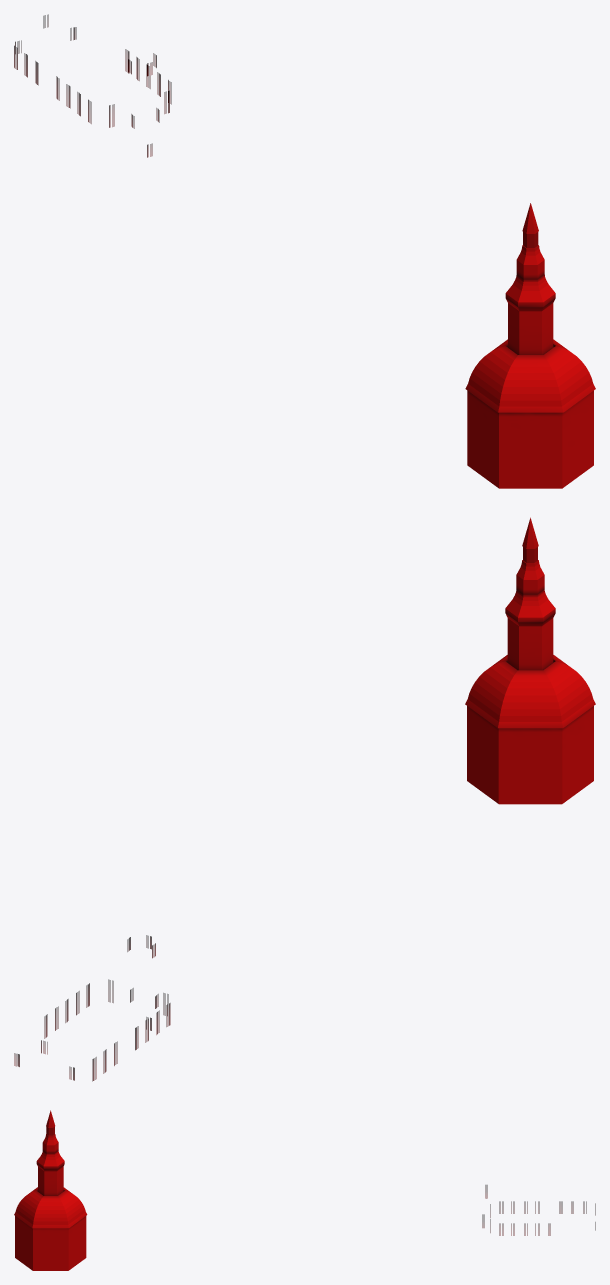
Rendered from WindowBars_export.obj.
3 renders of one model, top to bottom at view 1: azimuth 30°, elevation 25°; view 2: azimuth 150°, elevation 25°; view 3: azimuth 270°, elevation 25°, orthographic. The views are drawn at different scales.
Parts seen in each view (by area): view 1: MainBuildingBase, MainBuildingBigRoof, MainBuildingUpperRoof, MainBuildingLowerTower, WindowBars; view 2: MainBuildingBase, MainBuildingBigRoof, MainBuildingUpperRoof, MainBuildingLowerTower, WindowBars; view 3: MainBuildingBase, MainBuildingBigRoof, MainBuildingUpperRoof, MainBuildingLowerTower, WindowBars.
Part boxes in pixels (box(x1,y1,x2,y2)): MainBuildingBase: box(467, 390, 593, 488); MainBuildingBigRoof: box(465, 339, 595, 412); MainBuildingUpperRoof: box(505, 203, 555, 311); MainBuildingLowerTower: box(507, 303, 553, 354); WindowBars: box(14, 14, 171, 157); MainBuildingBase: box(467, 706, 593, 804); MainBuildingBigRoof: box(465, 655, 595, 728); MainBuildingUpperRoof: box(505, 517, 555, 626); MainBuildingLowerTower: box(507, 618, 553, 670); WindowBars: box(14, 935, 170, 1081); MainBuildingBase: box(15, 1216, 86, 1270); MainBuildingBigRoof: box(14, 1187, 87, 1228); MainBuildingUpperRoof: box(36, 1110, 64, 1171); MainBuildingLowerTower: box(37, 1166, 63, 1195); WindowBars: box(482, 1185, 595, 1235).
Size of the model in its own units: 21.43 by 55 by 196.
